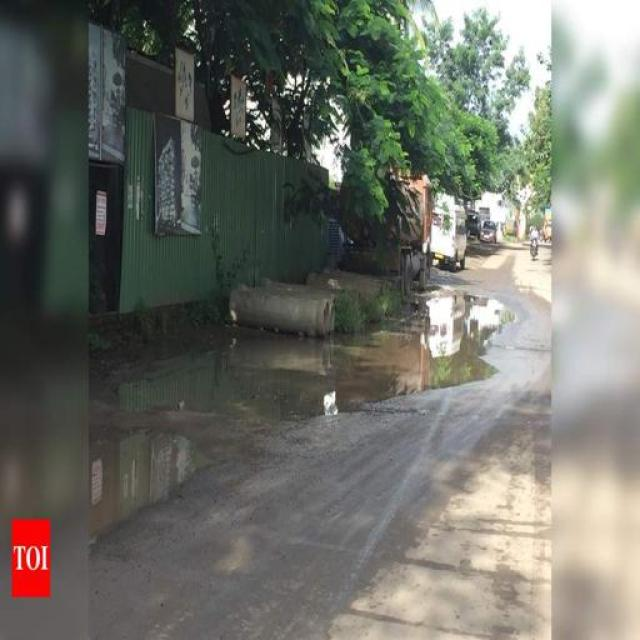puddle: (226, 335, 497, 415), (97, 381, 223, 541), (421, 290, 512, 351)
